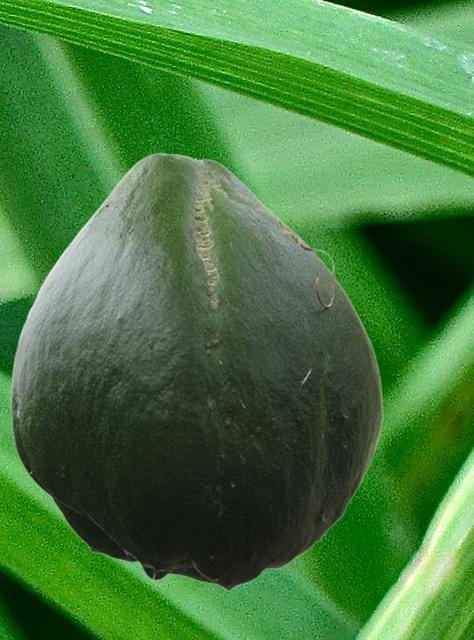sayote: (10, 152, 382, 591)
